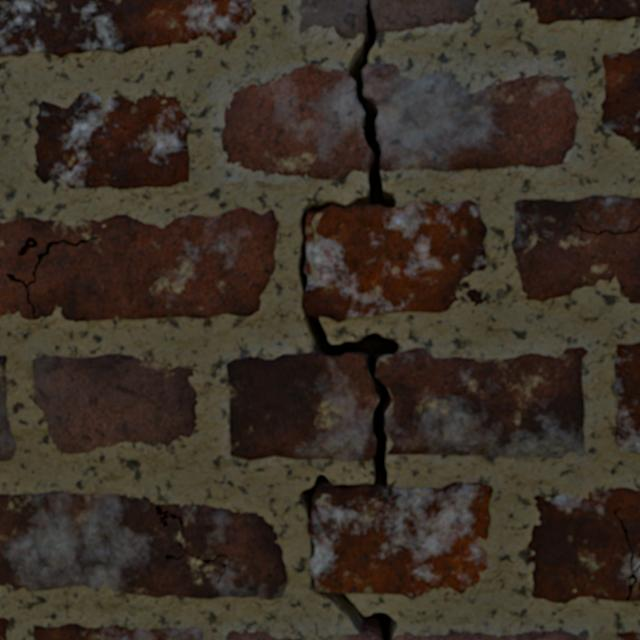broken_brick: (377, 347, 587, 458), (363, 63, 578, 171), (221, 64, 370, 179), (227, 352, 376, 460), (370, 0, 478, 32), (300, 0, 366, 38), (392, 630, 584, 639), (228, 631, 278, 639), (325, 633, 377, 639)
crack: (297, 0, 492, 639), (0, 207, 278, 321), (0, 491, 286, 598), (33, 354, 197, 453), (34, 93, 191, 188), (0, 0, 256, 57), (512, 195, 639, 303), (527, 487, 639, 602), (601, 48, 639, 150), (612, 342, 639, 453), (520, 0, 639, 24), (34, 623, 203, 639), (0, 355, 15, 460), (617, 632, 639, 639), (0, 618, 7, 639)
